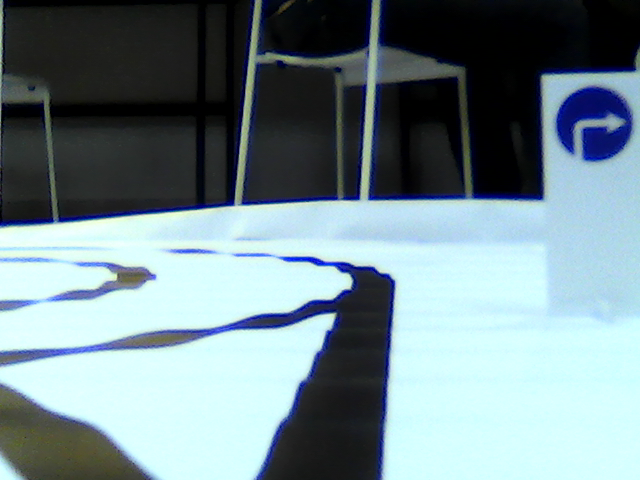Right: (555, 81, 635, 165)
